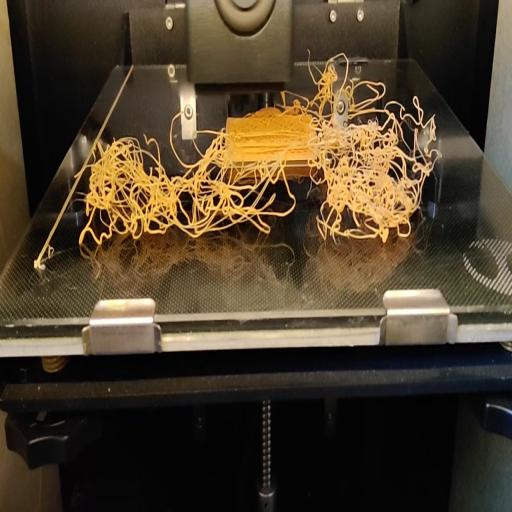spaghetti: (72, 97, 441, 247), (300, 45, 392, 97)
